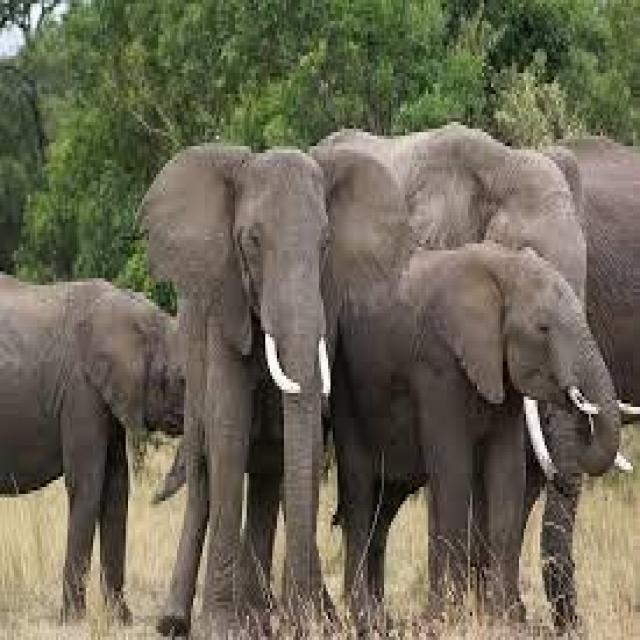Elephant: (342, 237, 617, 598), (144, 139, 342, 623)
